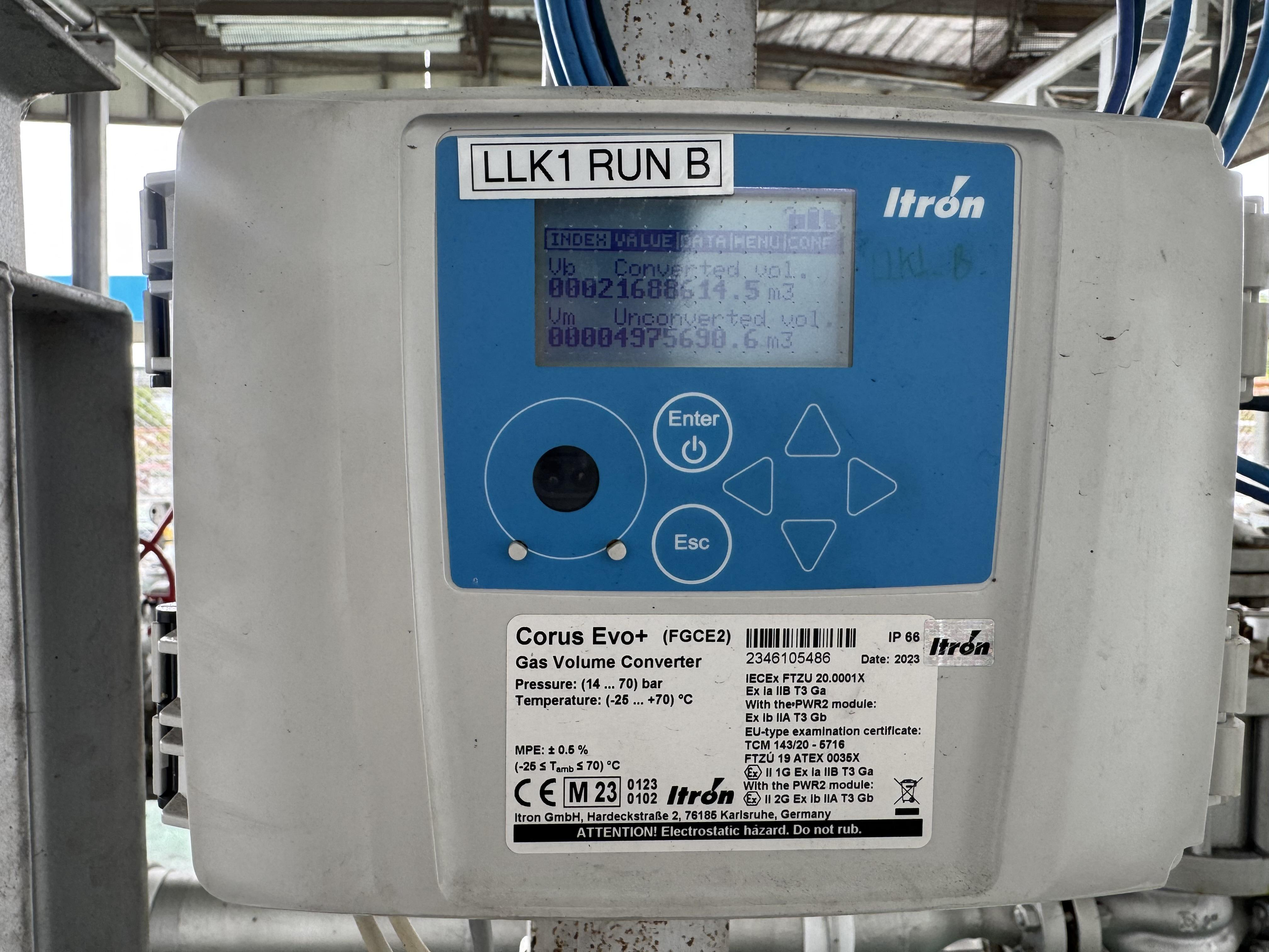digital_screen: (535, 185, 856, 367)
